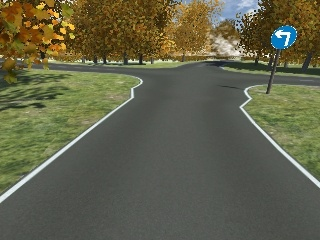TLeft: (269, 24, 299, 51)
